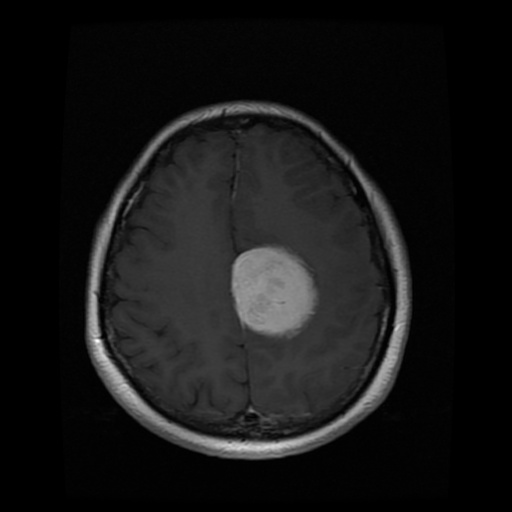meningioma: (232, 246, 318, 334)
